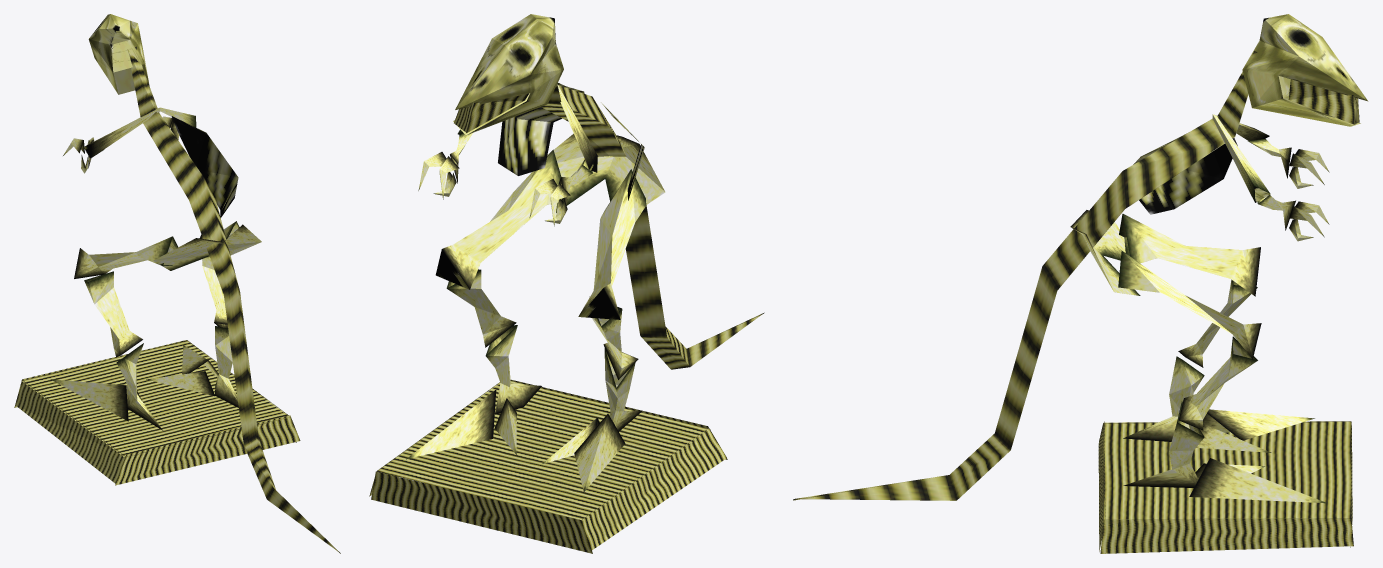
Rendered from Dinosaurier_427.glb.
3 renders of one model, left to right at view 1: azimuth 30°, elevation 25°; view 2: azimuth 150°, elevation 25°; view 3: azimuth 270°, elevation 25°, orthographic. The views are drawn at different scales.
Visible parts, largest first — view 1: pPlaneShape22, pCylinderShape7, pPlaneShape24, pPlaneShape23, pSphereShape12, pSphereShape11, pCylinderShape13, pCylinderShape14, pPlaneShape9, pPlaneShape12, pCylinderShape11, pCylinderShape12 (+4 smaller); view 2: pPlaneShape22, pCylinderShape7, pSphereShape12, pPlaneShape25, pPlaneShape23, pCylinderShape9, pCylinderShape14, pPlaneShape9, pSphereShape11, pPlaneShape13, pPlaneShape12, pCylinderShape11 (+7 smaller); view 3: pPlaneShape22, pCylinderShape7, pPlaneShape26, pSphereShape12, pCylinderShape14, pPlaneShape13, pSphereShape13, pCylinderShape9, pCylinderShape11, pCylinderShape10, pPlaneShape12, pCylinderShape12 (+5 smaller).
Boxes of the visible parts, x1,y1,x2,y2 form: pPlaneShape22: (21,340,290,457); pCylinderShape7: (127,46,340,553); pPlaneShape24: (115,415,300,485); pPlaneShape23: (15,380,126,483); pSphereShape12: (88,14,149,94); pSphereShape11: (172,116,238,217); pCylinderShape13: (84,271,142,357); pCylinderShape14: (74,236,178,278); pPlaneShape9: (153,224,261,270); pPlaneShape12: (51,379,128,421); pCylinderShape11: (214,326,238,407); pCylinderShape12: (116,343,162,430); pPlaneShape22: (377,381,710,521); pCylinderShape7: (541,84,764,369); pSphereShape12: (453,14,563,135); pPlaneShape25: (371,471,592,553); pPlaneShape23: (581,428,726,550); pCylinderShape9: (435,149,568,289); pCylinderShape14: (578,169,646,319); pPlaneShape9: (531,133,665,212); pSphereShape11: (498,83,584,175); pPlaneShape13: (406,389,496,459); pPlaneShape12: (574,414,625,491); pCylinderShape11: (485,325,541,414); pPlaneShape22: (1103,421,1351,519); pCylinderShape7: (793,51,1257,500); pPlaneShape26: (1100,518,1353,553); pSphereShape12: (1242,14,1368,126); pCylinderShape14: (1119,214,1260,296); pPlaneShape13: (1189,458,1327,503); pSphereShape13: (1133,133,1237,214); pCylinderShape9: (1118,250,1261,358); pCylinderShape11: (1123,401,1204,487); pCylinderShape10: (1179,336,1257,430); pPlaneShape12: (1203,409,1314,440); pCylinderShape12: (1123,356,1204,441).
Size of the model in its own units: 0.4158 by 0.8513 by 0.9301.
Materials: 30 (30 with a texture image).
